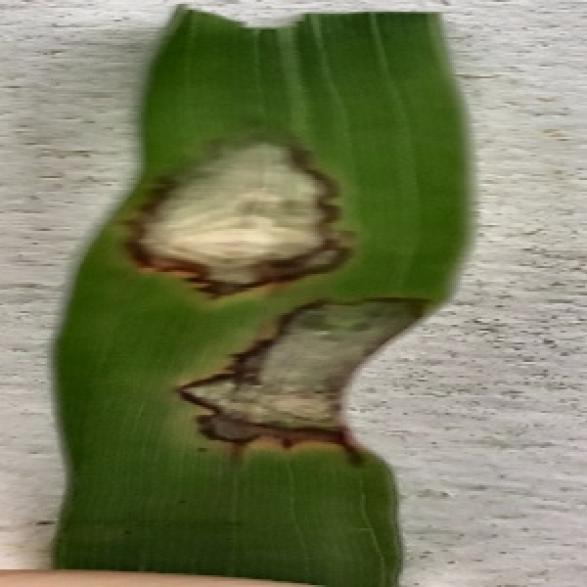Leaf_smut: (120, 125, 440, 470)
